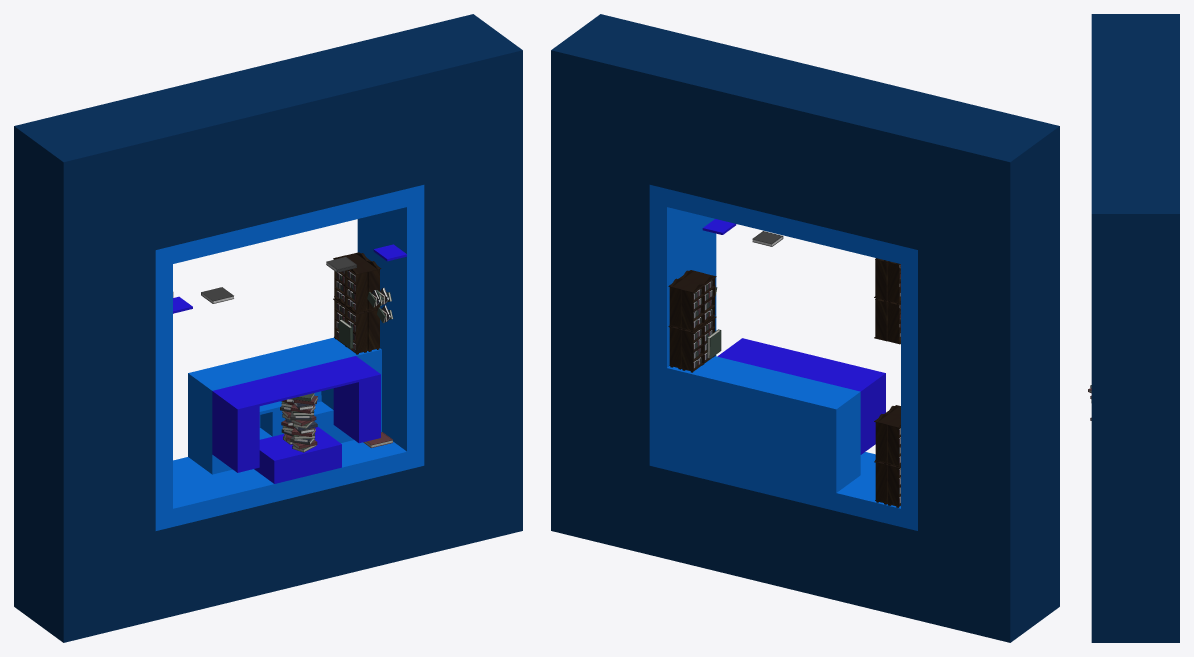
Rendered from FaceA2.glb.
3 renders of one model, left to right at view 1: azimuth 30°, elevation 25°; view 2: azimuth 150°, elevation 25°; view 3: azimuth 270°, elevation 25°, orthographic. The views are drawn at different scales.
Visible parts, largest first — view 1: paredeTRUETRUE-col.001, PlanoTrue-col.001, plataformadvdd-col.003, estante-col.006, plataformadvdd-col, plataformadvdd-col.001, plataformadvdd-col.002, PilhaDeLivros-col.003; view 2: paredeTRUETRUE-col.001, PlanoTrue-col.001, estante-col.006, plataformadvdd-col.003, estante-col, estante-col.011, plataformadvdd-col.001; view 3: paredeTRUETRUE-col.001.
Part boxes in pixels (box(x1,y1,x2,y2)): paredeTRUETRUE-col.001: box(14, 14, 522, 642); PlanoTrue-col.001: box(155, 185, 424, 530); plataformadvdd-col.003: box(212, 356, 380, 411); estante-col.006: box(333, 252, 381, 354); plataformadvdd-col: box(254, 427, 341, 483); plataformadvdd-col.001: box(212, 393, 259, 472); plataformadvdd-col.002: box(333, 377, 380, 443); PilhaDeLivros-col.003: box(290, 393, 317, 452); paredeTRUETRUE-col.001: box(551, 14, 1059, 642); PlanoTrue-col.001: box(649, 185, 917, 530); estante-col.006: box(668, 270, 716, 372); plataformadvdd-col.003: box(717, 338, 885, 393); estante-col: box(874, 405, 900, 507); estante-col.011: box(874, 258, 900, 344); plataformadvdd-col.001: box(860, 375, 885, 454); paredeTRUETRUE-col.001: box(1091, 14, 1179, 642).
Bounding box in the file's own units: 509 × 509 × 98.69.
229 materials, 224 textured.
